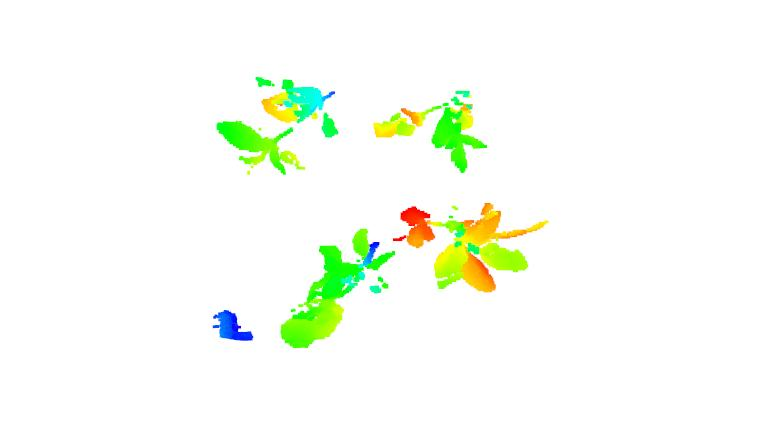mungbean: (389, 201, 550, 299), (278, 225, 395, 351), (216, 76, 344, 176), (371, 93, 490, 176)
